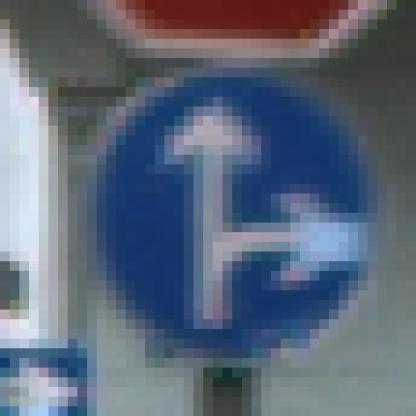Straight or Right: (59, 49, 359, 359)
